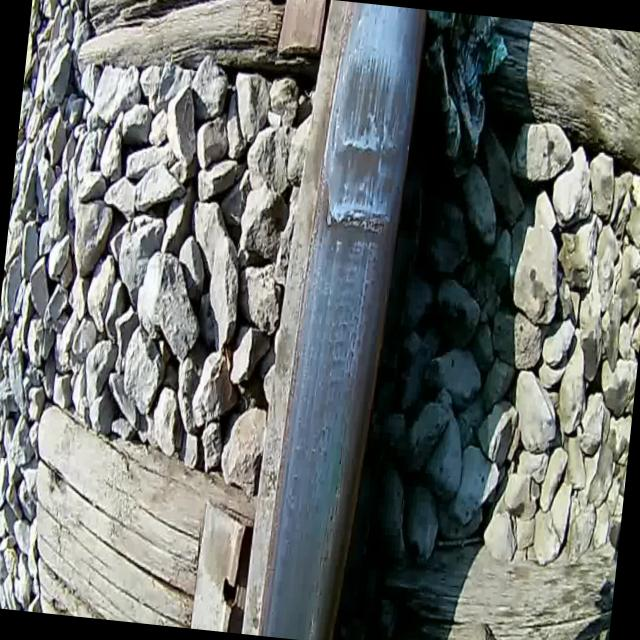Cracks: (314, 190, 402, 248)
Squats: (333, 46, 416, 148), (325, 130, 412, 210)
